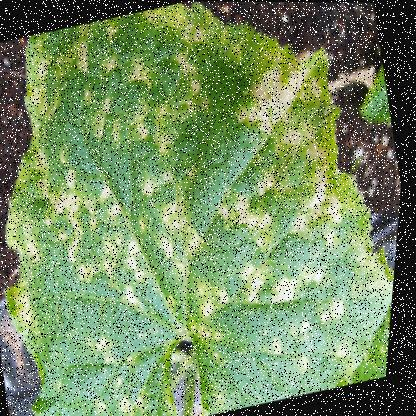DownyMildew: (11, 0, 253, 250), (5, 141, 248, 365), (165, 234, 362, 405), (172, 143, 362, 298), (190, 23, 351, 192), (28, 290, 194, 415)
